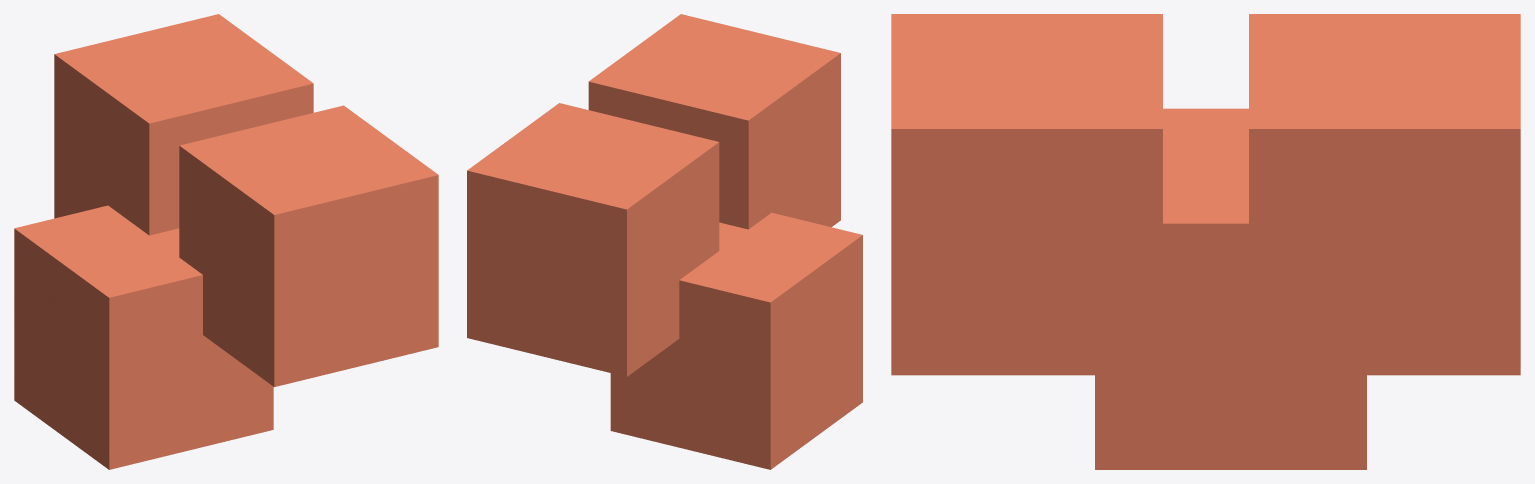
Rendered from cubetest2.obj.
3 renders of one model, left to right at view 1: azimuth 30°, elevation 25°; view 2: azimuth 150°, elevation 25°; view 3: azimuth 270°, elevation 25°, orthographic. The views are drawn at different scales.
Bounding box in the file's own units: 0.7855 × 0.8253 × 1.16.
